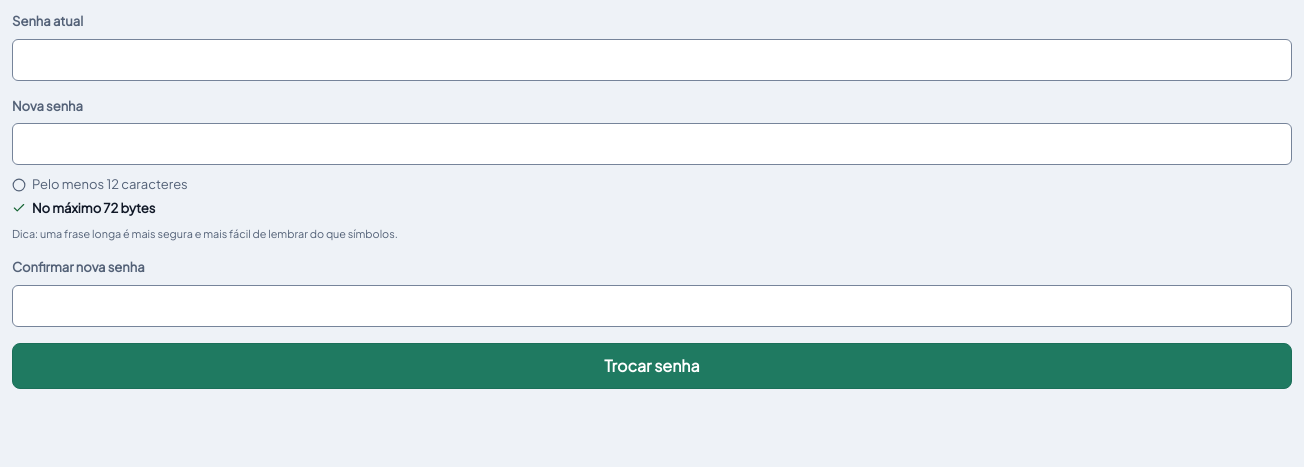
Test case: ChangePasswordForm › mostra checklist e forca enquanto digita, e avisa quando a confirmacao difere
Step 1. Type "curta" into the password field labelled "Nova senha" → coordinates (652, 144), box [12, 123, 1292, 165]
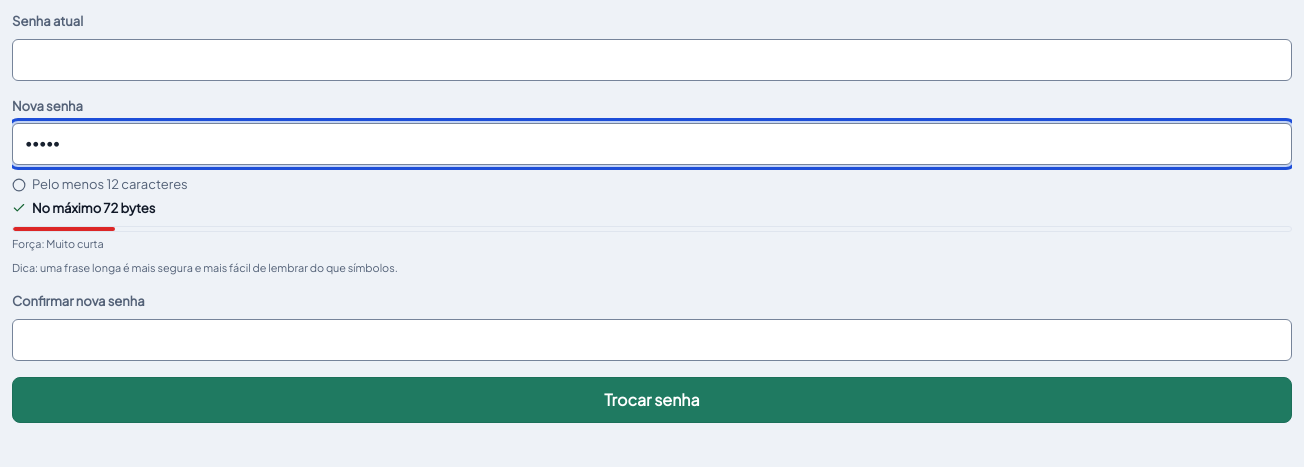
Expected: the text "Força: Muito curta" is shown, [12, 237, 104, 250]
Step 2. Type "cavalo azul come batata" into the password field labelled "Nova senha" → coordinates (652, 144), box [12, 123, 1292, 165]
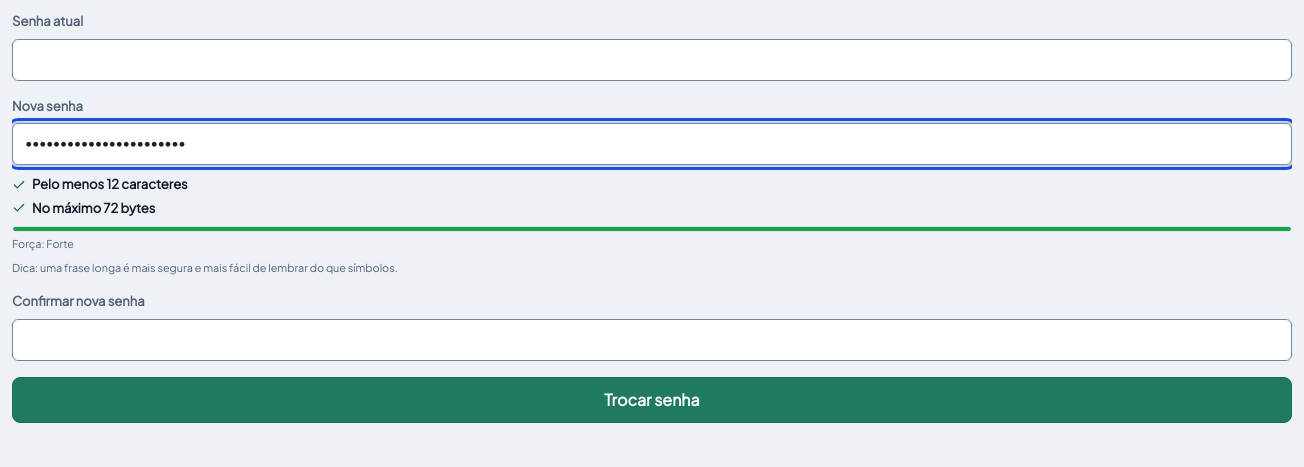
Expected: the list item "Pelo menos 12 caracteres" has class "met", [11, 176, 188, 201]
Expected: the element named "Força da senha" has attribute aria-valuenow="3", [12, 226, 1292, 232]
Step 3. Type "outra" into the password field labelled "Confirmar nova senha" → coordinates (652, 340), box [12, 319, 1292, 361]
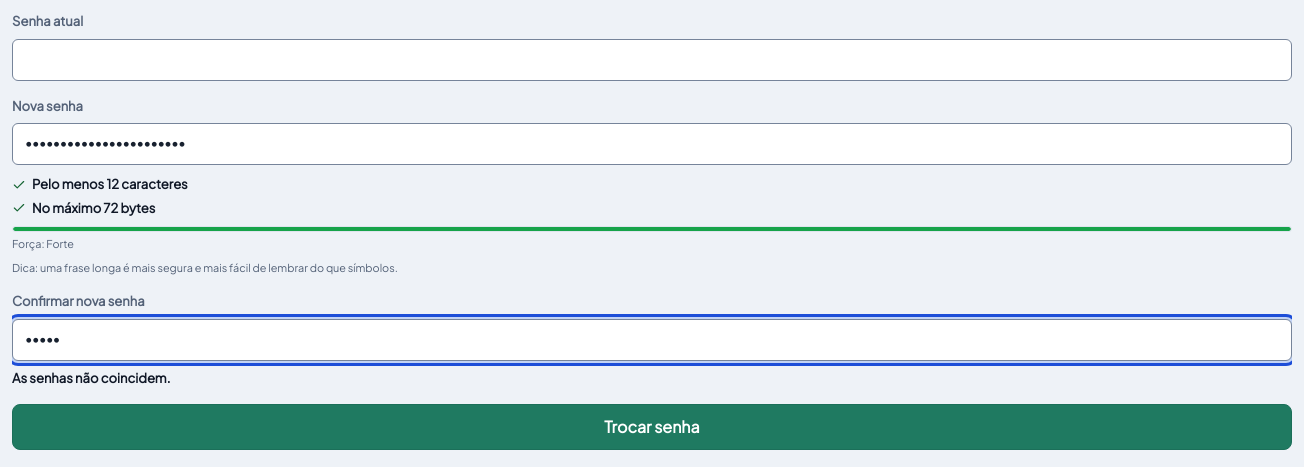
Expected: the text "As senhas não coincidem." is shown, [12, 370, 170, 386]
